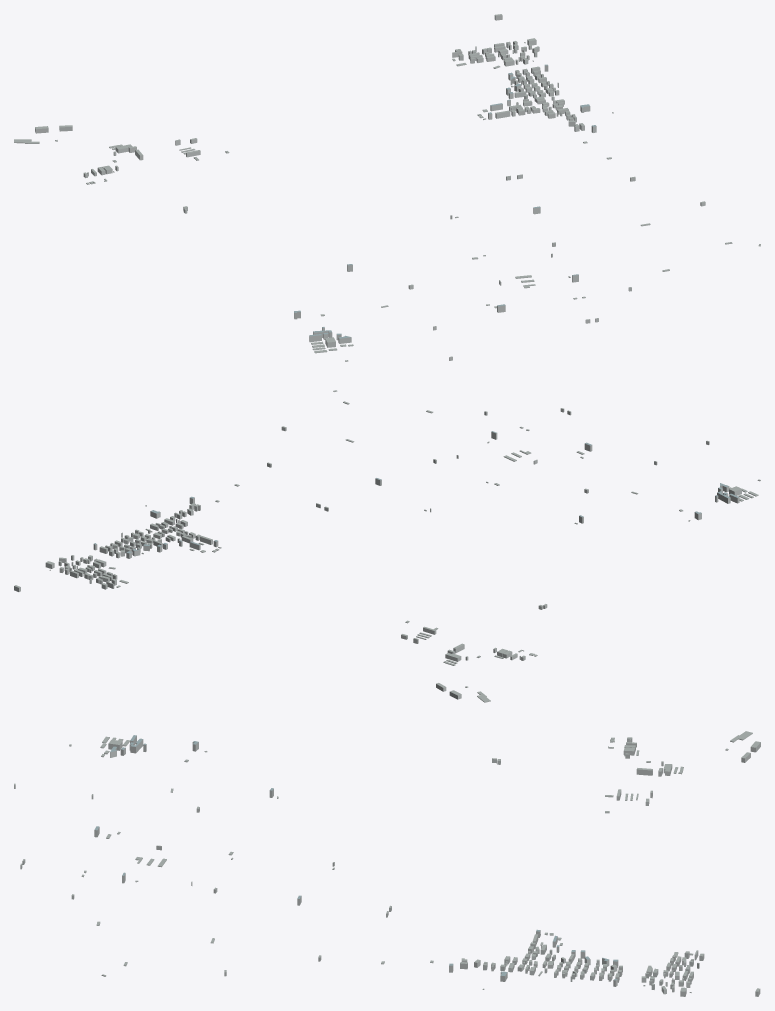
3 views of the same model, one above another, from view 1: azimuth 30°, elevation 25°; view 2: azimuth 150°, elevation 25°; view 3: azimuth 270°, elevation 25° (orthographic). The views are drawn at different scales.
Visible parts, largest first — view 1: 上海全域建筑分块 · mapped building neighborhood; view 2: 上海全域建筑分块 · mapped building neighborhood; view 3: 上海全域建筑分块 · mapped building neighborhood.
Boxes of the visible parts, bbox=[...] form: 上海全域建筑分块 · mapped building neighborhood: bbox=[14, 14, 760, 361]; 上海全域建筑分块 · mapped building neighborhood: bbox=[14, 390, 760, 702]; 上海全域建筑分块 · mapped building neighborhood: bbox=[14, 731, 760, 996].
Size of the model in its own units: 1744 by 23.01 by 2077.
